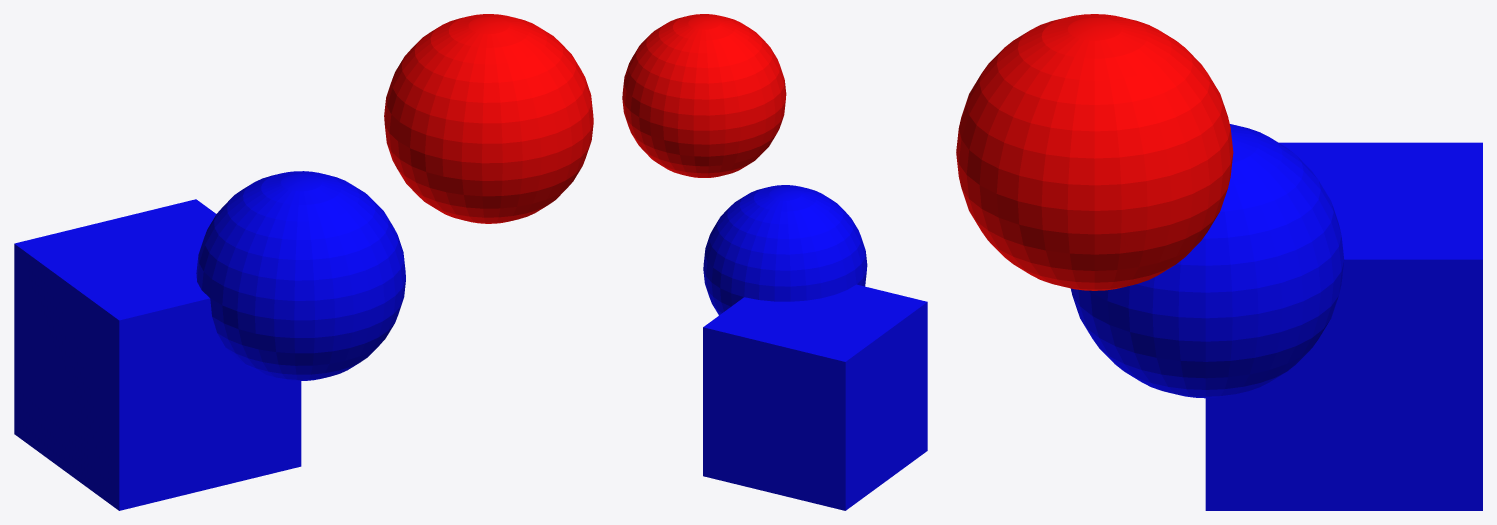
File: test.modeler.animations.exploded.gltf
The picture shows the model from 3 angles, left to right: view 1: azimuth 30°, elevation 25°; view 2: azimuth 150°, elevation 25°; view 3: azimuth 270°, elevation 25°; orthographic projection. The views are drawn at different scales.
Visible parts, largest first — view 1: shape_0, shape_5, shape_1; view 2: shape_0, shape_5, shape_1; view 3: shape_0, shape_5, shape_1.
Boxes of the visible parts, x1=… form: shape_0: x1=14, y1=199, x2=301, y2=510; shape_5: x1=384, y1=14, x2=593, y2=223; shape_1: x1=196, y1=171, x2=405, y2=380; shape_0: x1=703, y1=284, x2=927, y2=510; shape_5: x1=622, y1=14, x2=786, y2=177; shape_1: x1=703, y1=185, x2=867, y2=315; shape_0: x1=1205, y1=142, x2=1482, y2=510; shape_5: x1=956, y1=14, x2=1233, y2=290; shape_1: x1=1070, y1=124, x2=1344, y2=398.
Bounding box in the file's own units: 23 × 23 × 19.
